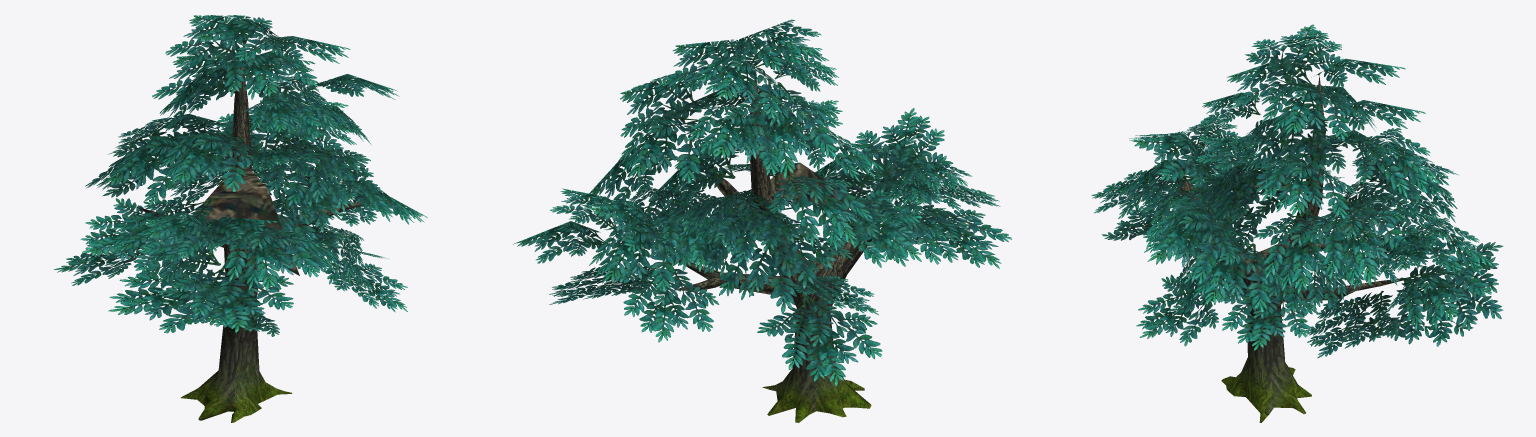
File: cj_xinshou_shu01_53_38_0717out.fbx
3 renders of one model, left to right at view 1: azimuth 30°, elevation 25°; view 2: azimuth 150°, elevation 25°; view 3: azimuth 270°, elevation 25°, orthographic. The views are drawn at different scales.
Visible parts, largest first — view 1: cj_xinshou_shu01; view 2: cj_xinshou_shu01; view 3: cj_xinshou_shu01.
Boxes of the visible parts, x1,y1,x2,y2 form: cj_xinshou_shu01: (54,15,427,422); cj_xinshou_shu01: (513,19,1011,422); cj_xinshou_shu01: (1091,24,1503,422).
Size of the model in its own units: 6.21 by 5.35 by 5.97.
